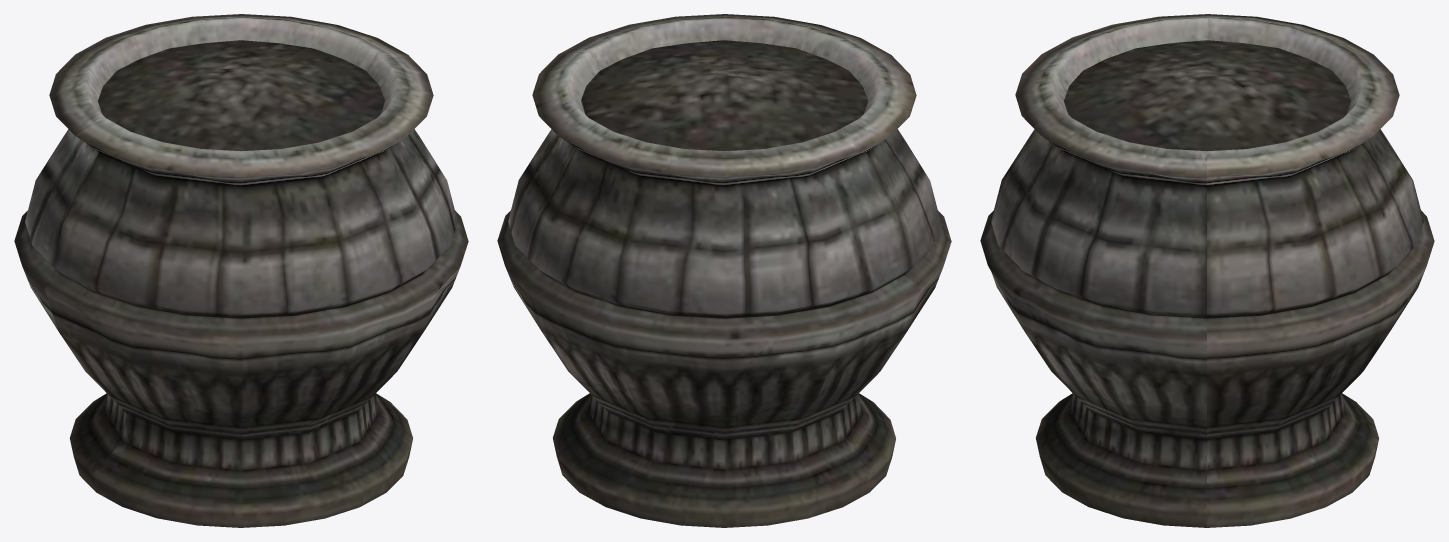
The model's file is eso_gu1_Pottery2-transformed.glb.
3 renders of one model, left to right at view 1: azimuth 30°, elevation 25°; view 2: azimuth 150°, elevation 25°; view 3: azimuth 270°, elevation 25°, orthographic.
Visible parts, largest first — view 1: default; view 2: default; view 3: default.
Boxes of the visible parts, x1,y1,x2,y2 form: default: [14, 14, 468, 527]; default: [497, 14, 951, 527]; default: [980, 14, 1434, 527].
Bounding box in the file's own units: 0.6377 × 0.5868 × 0.6377.
1 material, 1 textured.
